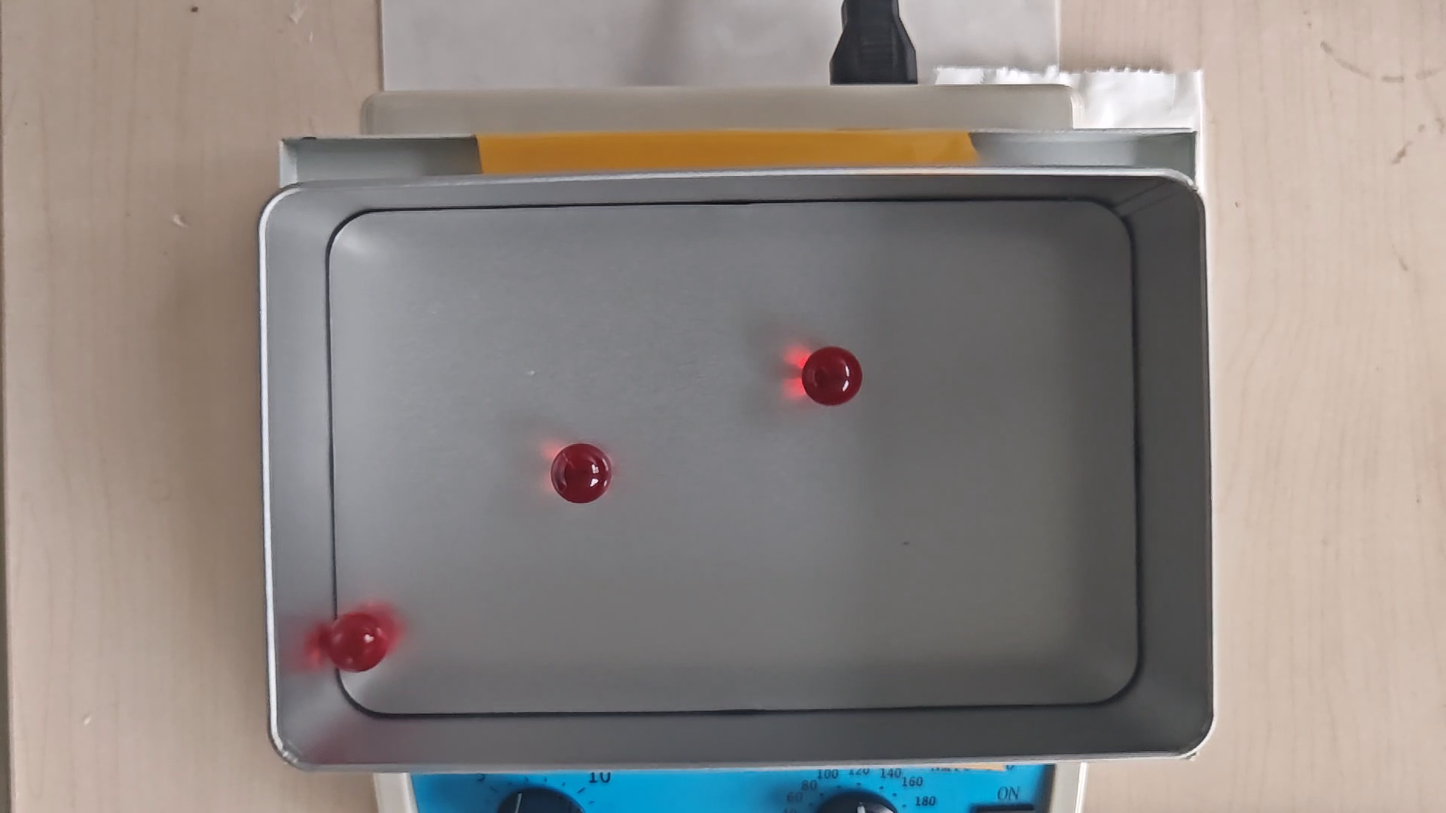ball: (551, 443, 613, 504), (326, 614, 387, 671), (804, 346, 860, 407)
container: (331, 200, 1137, 712)
